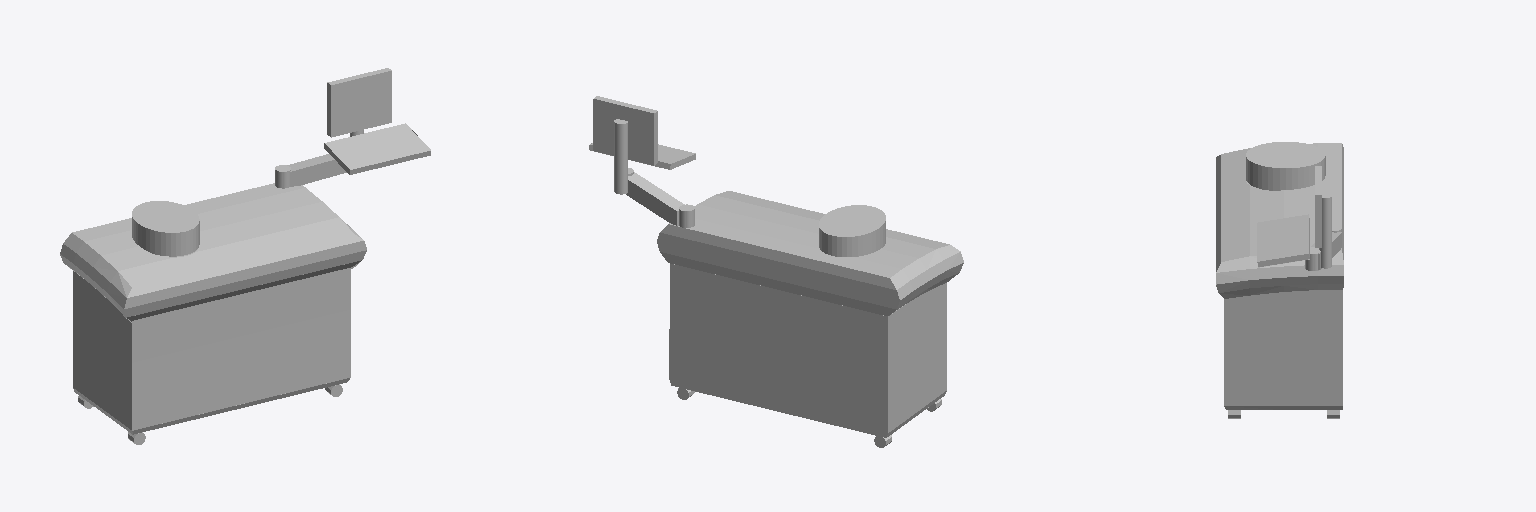
Rendered from IMMULITE 2000 XPi.obj.
3 renders of one model, left to right at view 1: azimuth 30°, elevation 25°; view 2: azimuth 150°, elevation 25°; view 3: azimuth 270°, elevation 25°, orthographic.
Parts seen in each view (by area): view 1: object2, object1; view 2: object2, object1; view 3: object2, object1.
Part boxes in pixels (x1,y1,x2,y2): object2: (60,68,430,444); object1: (275,130,363,188); object2: (589,96,963,447); object1: (614,119,694,227); object2: (1216,142,1343,418); object1: (1305,192,1341,270).
Size of the model in its own units: 84.11 by 66.31 by 28.46.